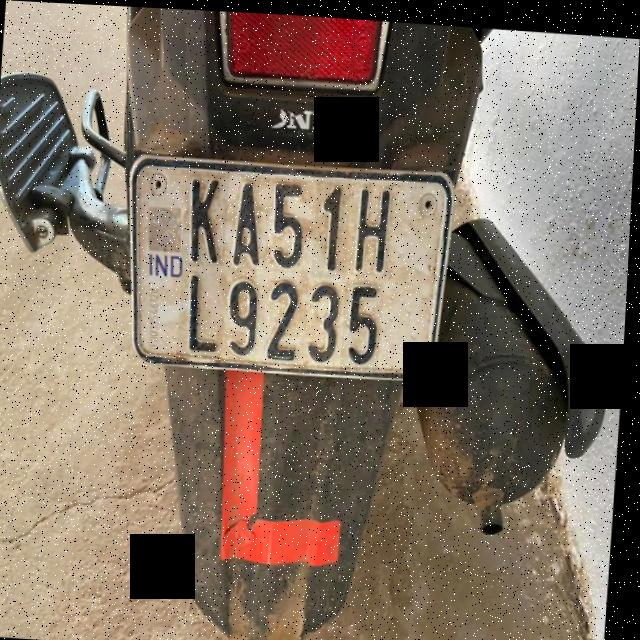1: (313, 168, 354, 275)
3: (307, 276, 348, 365)
5: (268, 169, 315, 268), (343, 275, 386, 370)
9: (220, 264, 269, 360)
A: (230, 169, 271, 272)
H: (352, 172, 402, 279)
K: (183, 167, 232, 266)
L: (179, 263, 230, 360)
